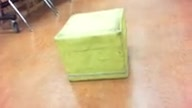cube: (54, 7, 129, 81)
